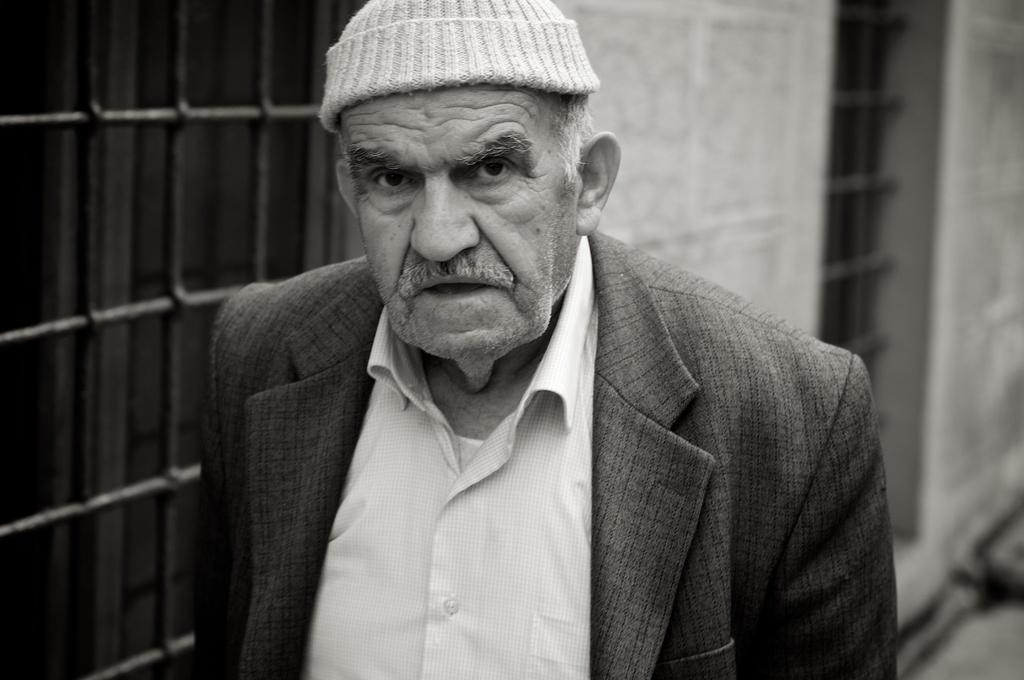Hat: (308, 0, 608, 131)
